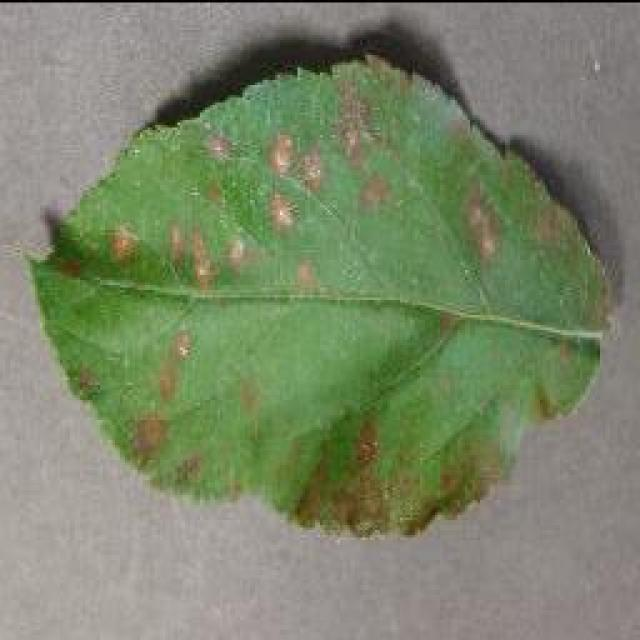apple rust disease: (23, 48, 615, 540)
